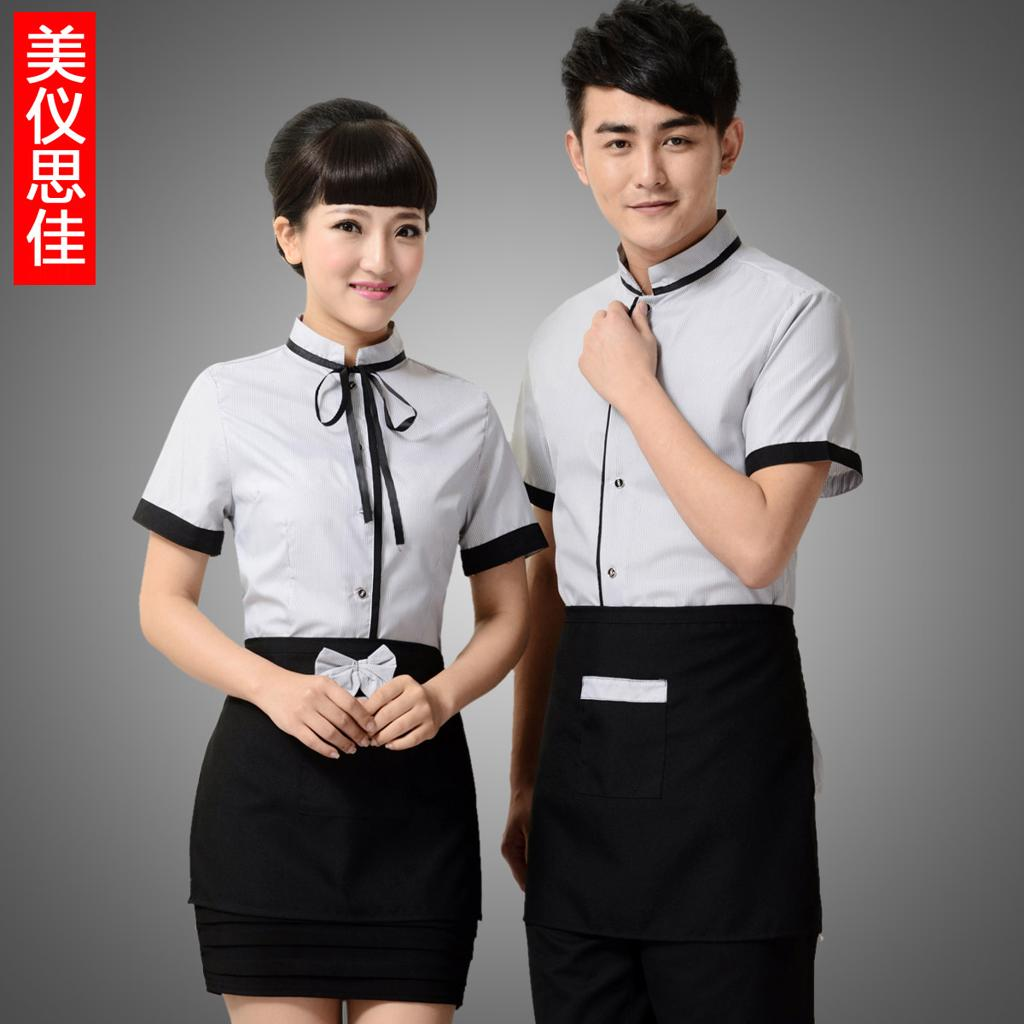face: (582, 60, 718, 252), (304, 154, 424, 330)
